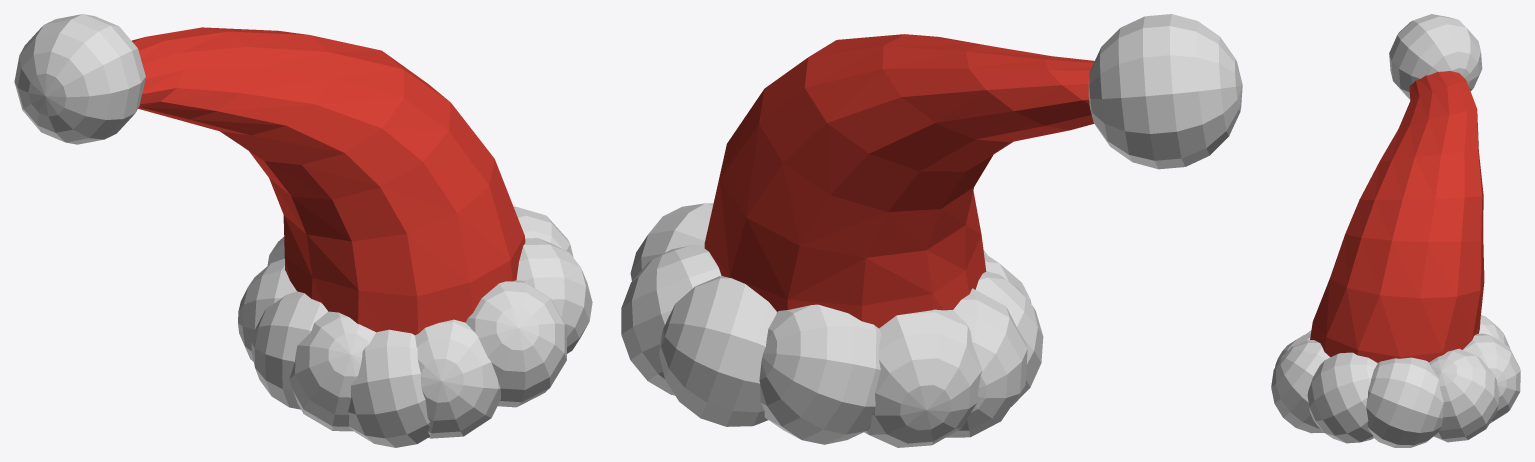
File: santa-hat.glb
3 renders of one model, left to right at view 1: azimuth 30°, elevation 25°; view 2: azimuth 150°, elevation 25°; view 3: azimuth 270°, elevation 25°, orthographic. The views are drawn at different scales.
Parts seen in each view (by area): view 1: node_MeshObject2049711104-PolyPaper21; view 2: node_MeshObject2049711104-PolyPaper21; view 3: node_MeshObject2049711104-PolyPaper21.
Boxes of the visible parts, left/top/right/bottom form: node_MeshObject2049711104-PolyPaper21: left=14, top=14, right=592, bottom=447; node_MeshObject2049711104-PolyPaper21: left=621, top=14, right=1242, bottom=447; node_MeshObject2049711104-PolyPaper21: left=1271, top=14, right=1520, bottom=447.
Size of the model in its own units: 2.33 by 1.83 by 1.35.
